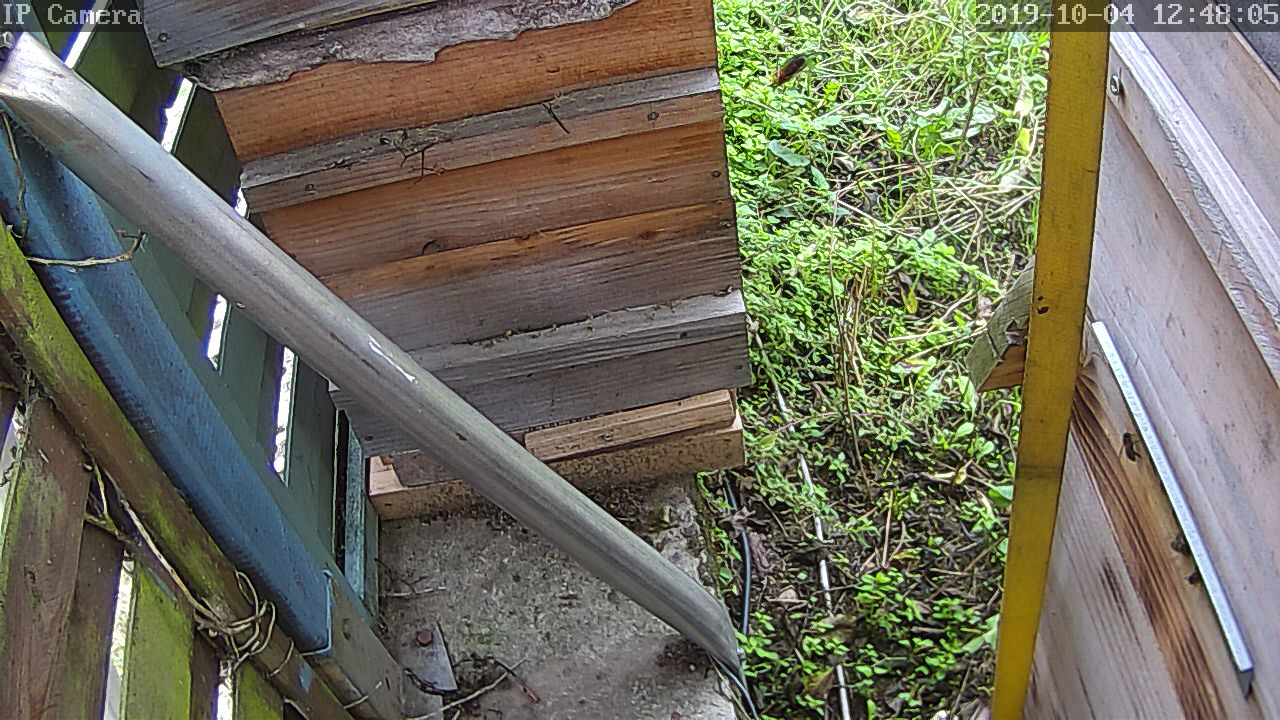hornet: (767, 46, 806, 92)
